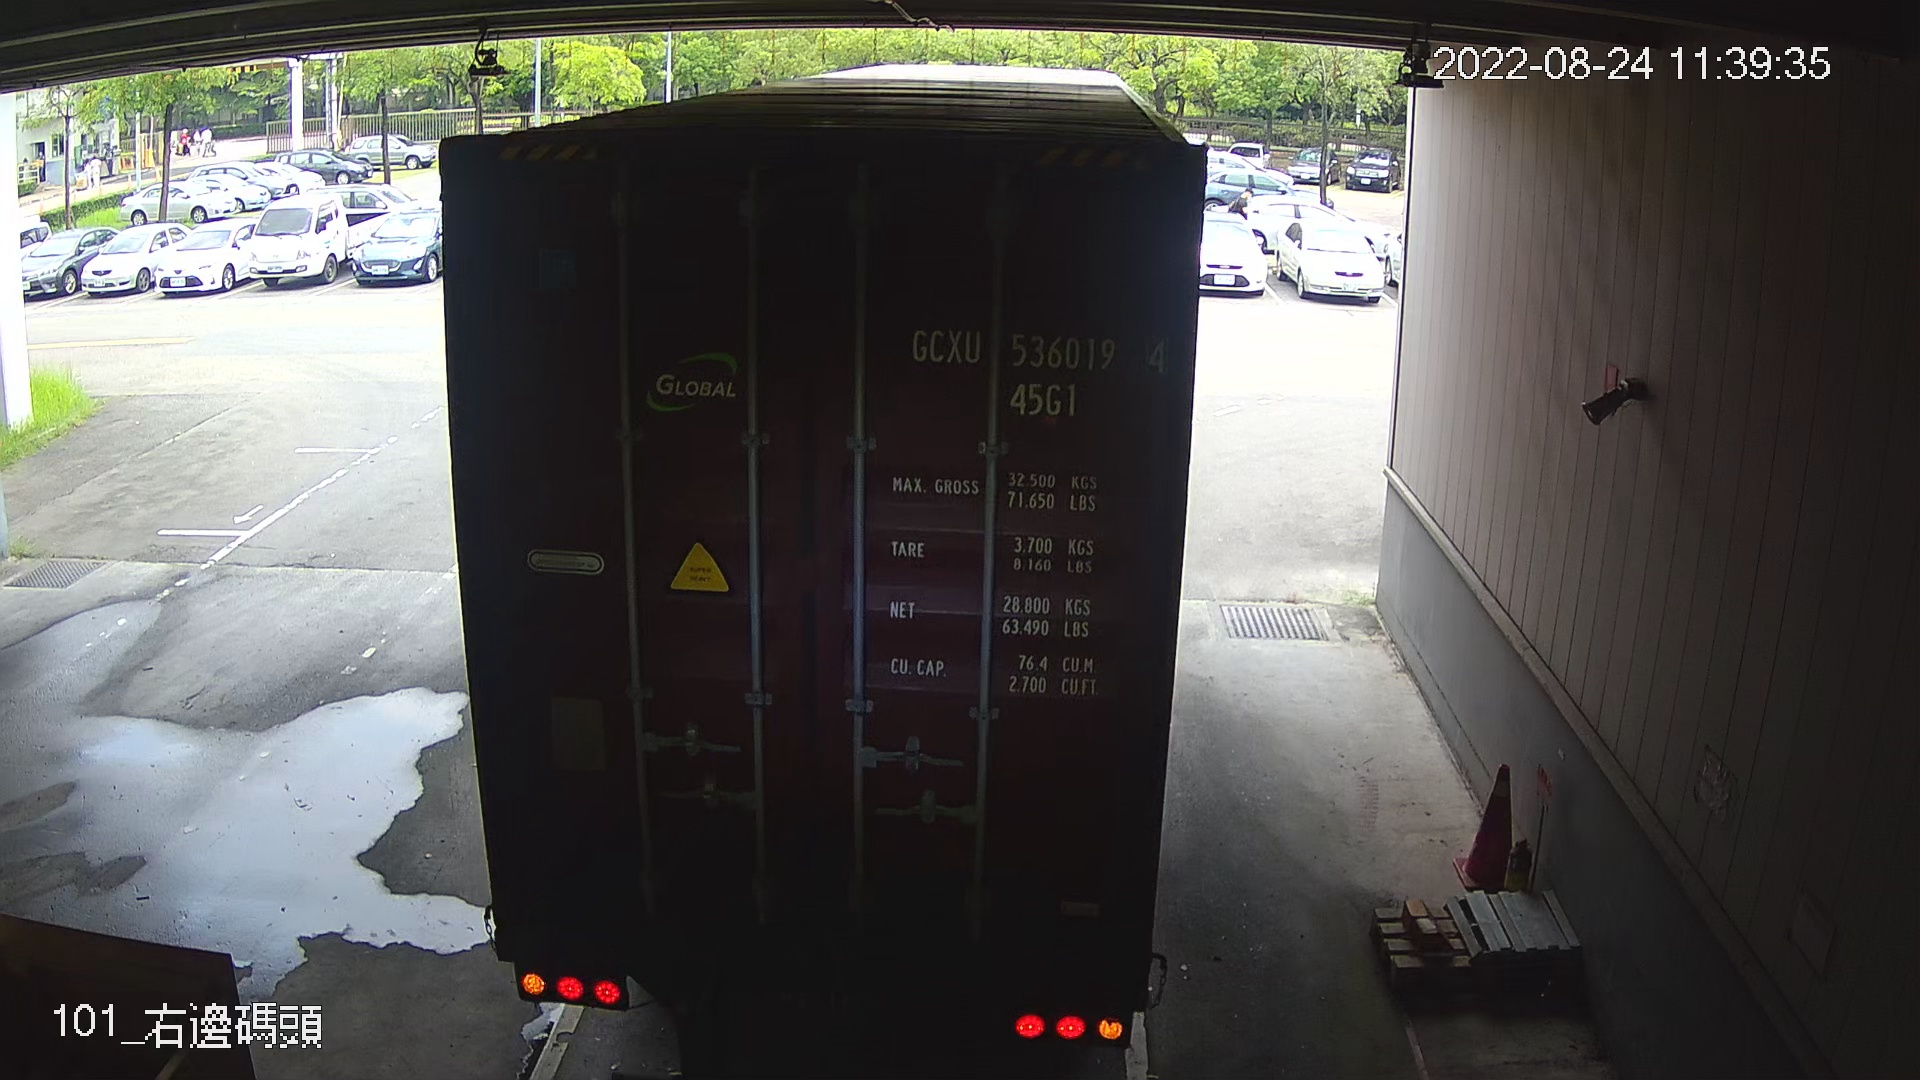container: (894, 305, 1175, 433)
